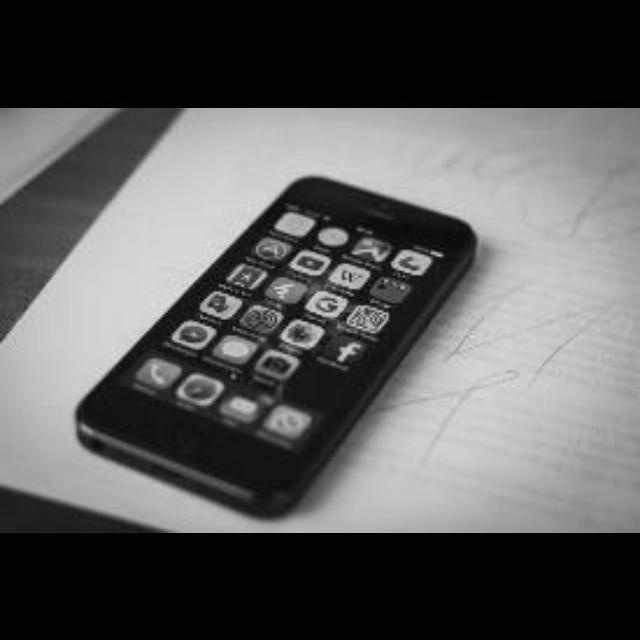fake: (66, 178, 490, 514)
